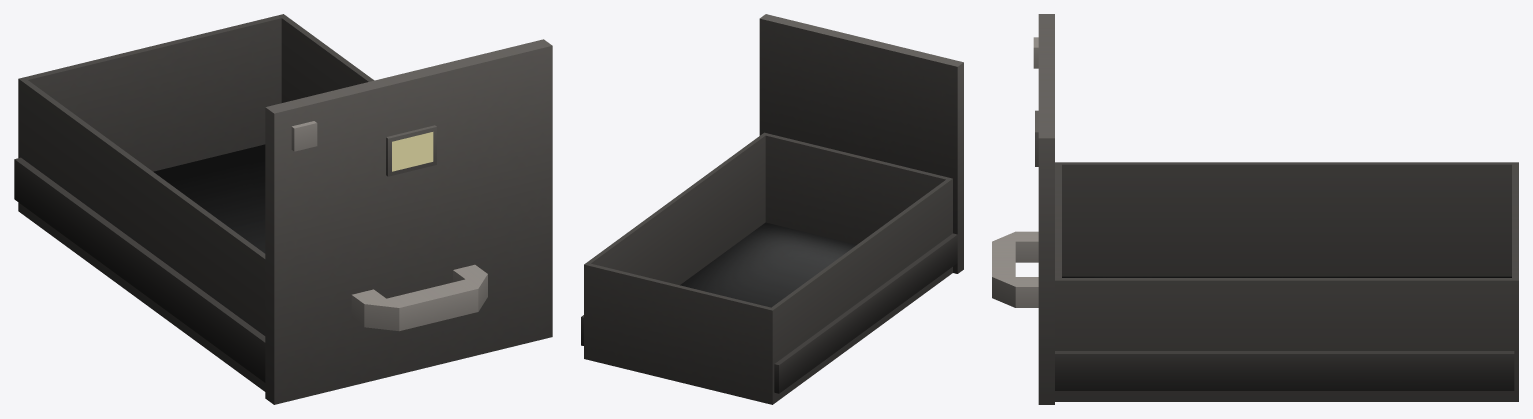
The model's file is FilingCabinet_DrawerKeyLock.fbx.
3 views of the same model, side by side, from view 1: azimuth 30°, elevation 25°; view 2: azimuth 150°, elevation 25°; view 3: azimuth 270°, elevation 25° (orthographic). The views are drawn at different scales.
Visible parts, largest first — view 1: FilingCabinet_DrawerKeyLock; view 2: FilingCabinet_DrawerKeyLock; view 3: FilingCabinet_DrawerKeyLock.
Part boxes in pixels (x1=…): FilingCabinet_DrawerKeyLock: x1=14, y1=14, x2=552, y2=404; FilingCabinet_DrawerKeyLock: x1=581, y1=14, x2=963, y2=404; FilingCabinet_DrawerKeyLock: x1=992, y1=14, x2=1518, y2=404.
Bounding box in the file's own units: 33.38 × 33.38 × 59.78.
